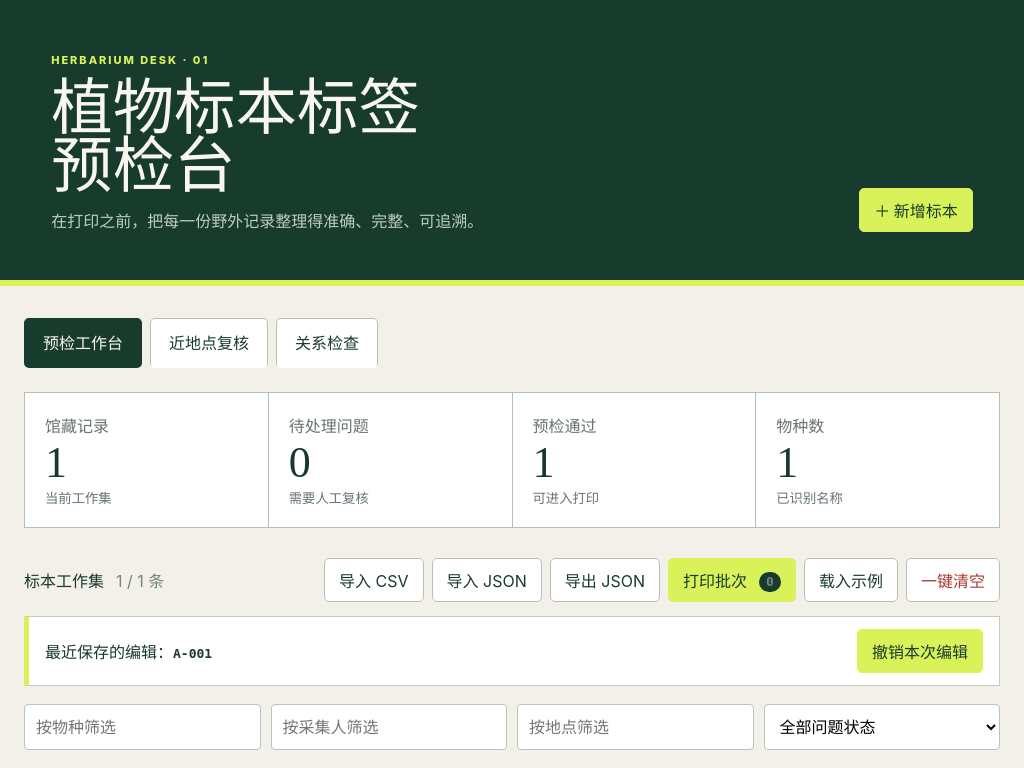
Test: 撤销持久化与失效 › 刷新页面后仍可继续撤销
The image size is (1024, 768).
Check: the element with class "undo-bar" shows "A-001", box [173,646,212,661]
Click the button "撤销本次编辑".
click(920, 651)  # box [857,629,983,673]
(page scrolled)
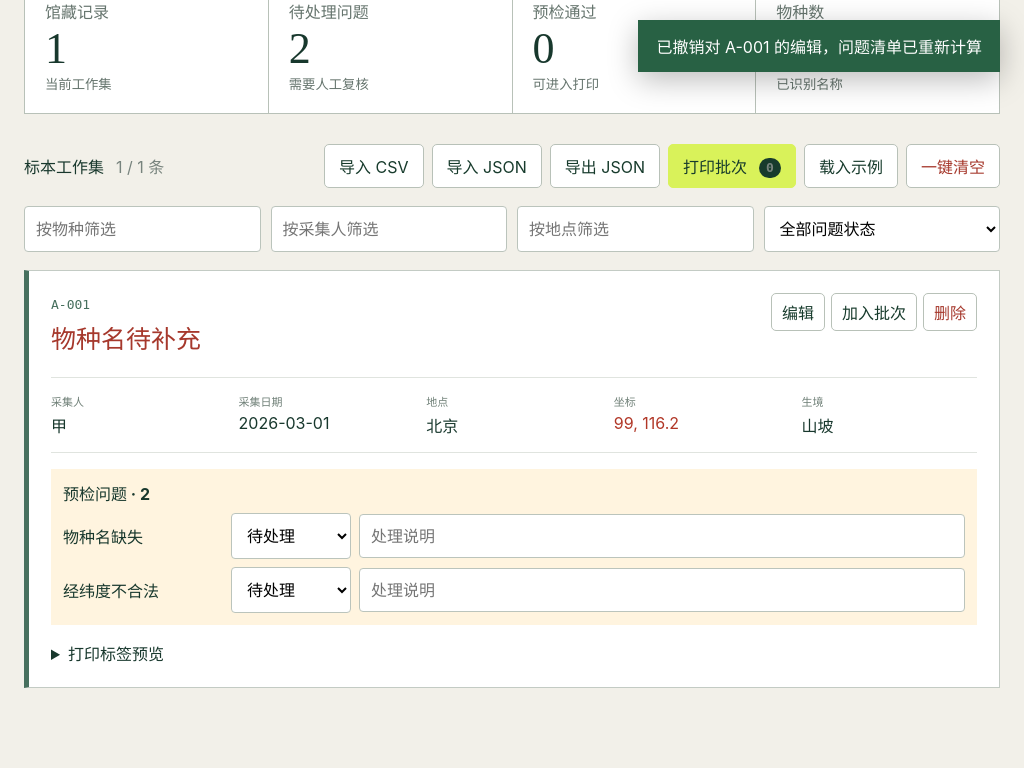
Check: the text "物种名待补充" is shown, box [51,326,201,353]
Check: the text "99, 116.2" is shown, box [614,413,679,433]
